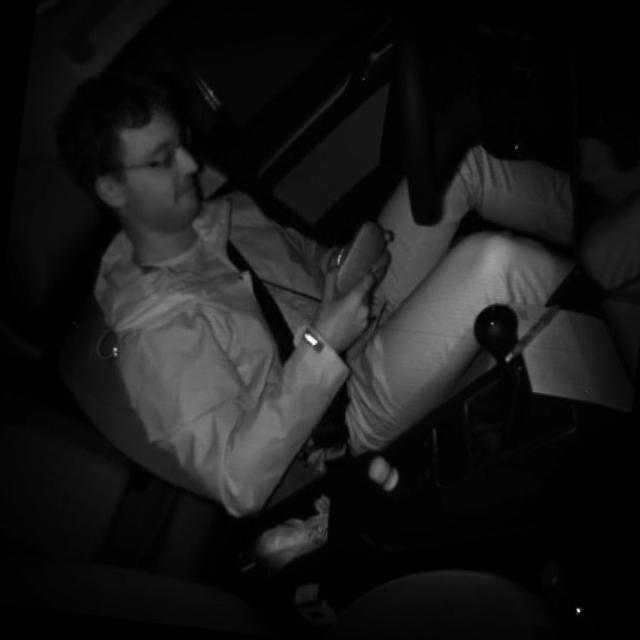pen: (502, 292, 563, 370)
